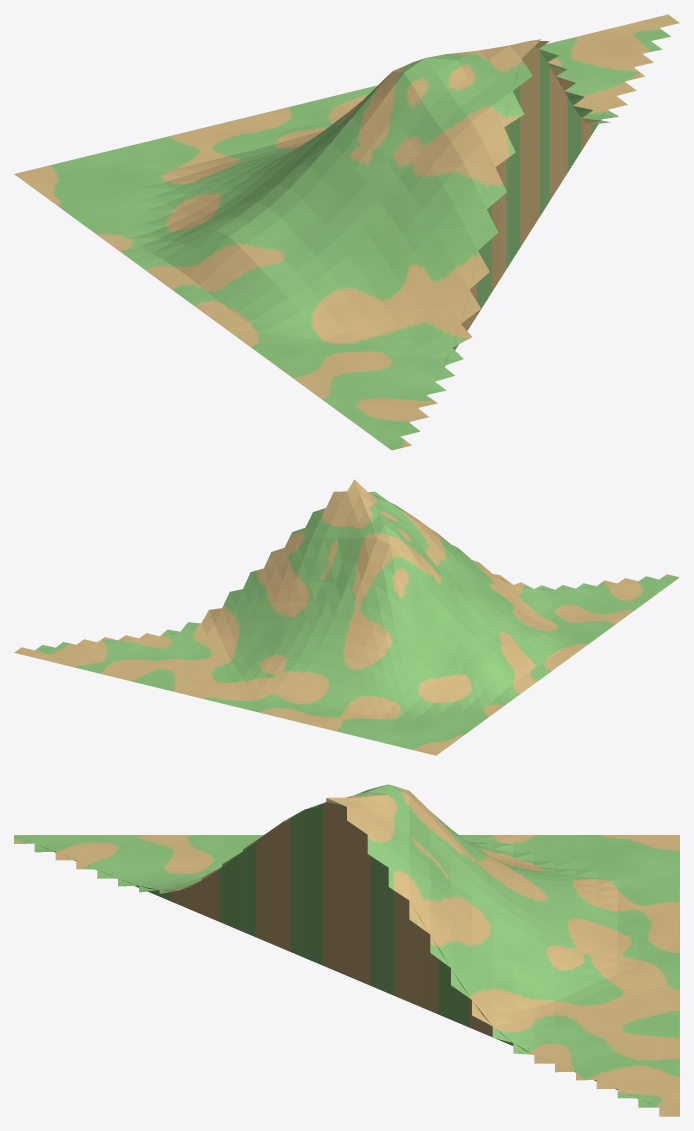
The model's file is Grass_Hills_09_SW.obj.
3 views of the same model, one above another, from view 1: azimuth 30°, elevation 25°; view 2: azimuth 150°, elevation 25°; view 3: azimuth 270°, elevation 25° (orthographic). The views are drawn at different scales.
Bounding box in the file's own units: 10 × 2.95 × 10.
1 material, 1 textured.
